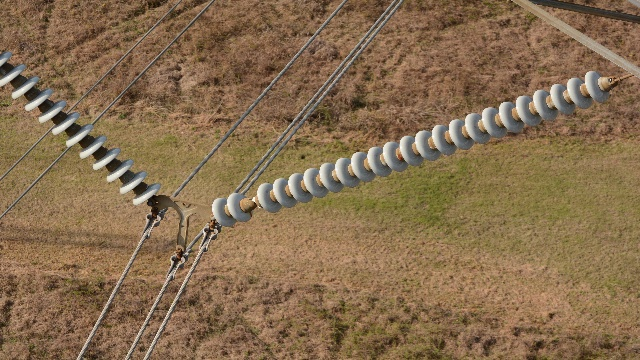broken_local: (249, 194, 264, 210)
insulator_unspecified: (211, 71, 609, 228), (0, 52, 162, 205)
